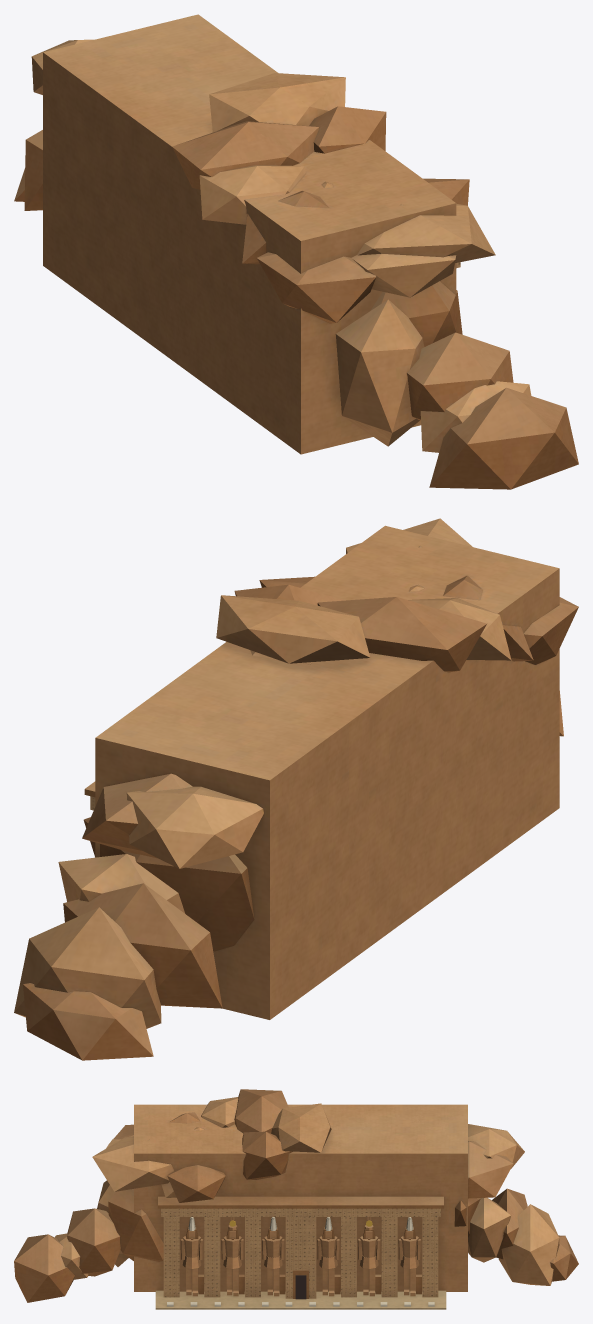
File: abusimbel_tex.glb
3 renders of one model, top to bottom at view 1: azimuth 30°, elevation 25°; view 2: azimuth 150°, elevation 25°; view 3: azimuth 270°, elevation 25°, orthographic. The views are drawn at different scales.
Parts seen in each view (by area): view 1: abusimbel; view 2: abusimbel; view 3: abusimbel.
Boxes of the visible parts, box(x1,y1,x2,y2) form: abusimbel: box(14, 14, 578, 489); abusimbel: box(14, 518, 578, 1060); abusimbel: box(14, 1089, 578, 1309).
Bounding box in the file's own units: 25.32 × 25.9 × 77.83.
9 materials, 7 textured.
